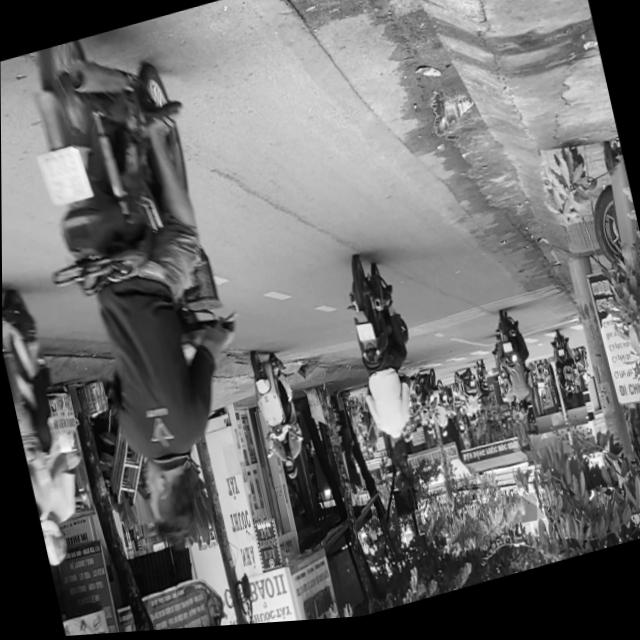helmet: (39, 517, 68, 570), (281, 461, 298, 486)
licenseplate: (4, 10, 281, 571), (2, 266, 95, 572), (333, 252, 433, 479), (242, 347, 311, 492)
motorcyclist: (136, 449, 204, 551), (386, 437, 409, 471)
nohelmet: (36, 146, 92, 211), (355, 326, 374, 348)
